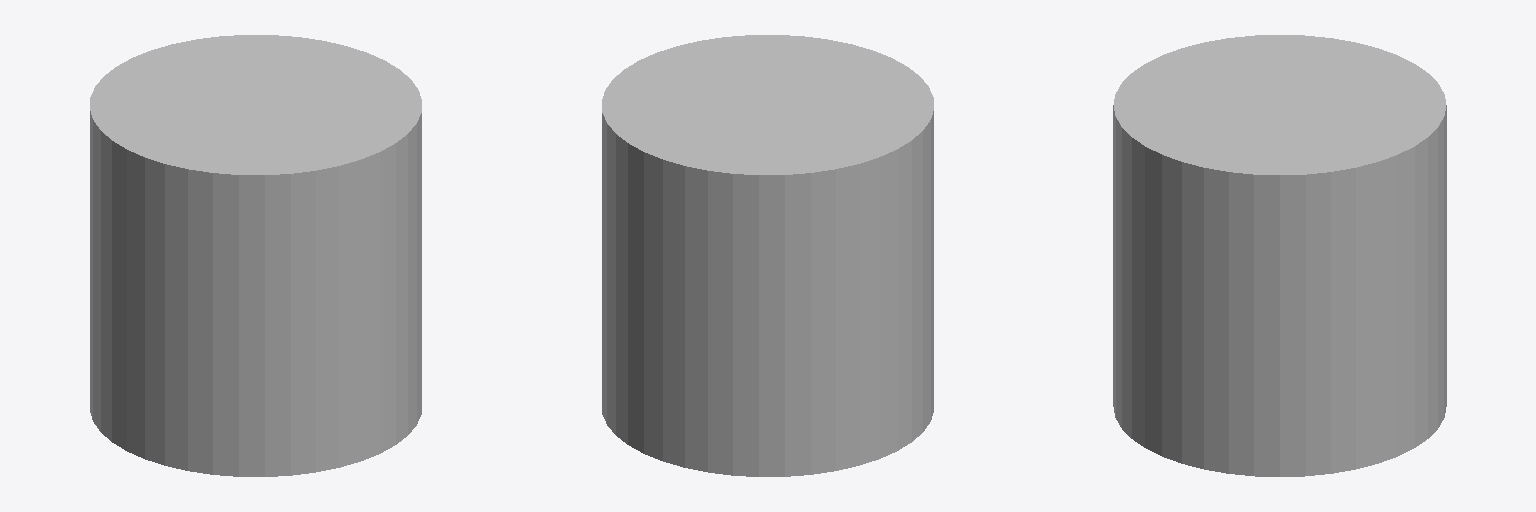
Rendered from Pillar.obj.
3 views of the same model, side by side, from view 1: azimuth 30°, elevation 25°; view 2: azimuth 150°, elevation 25°; view 3: azimuth 270°, elevation 25° (orthographic).
Visible parts, largest first — view 1: Cylinder; view 2: Cylinder; view 3: Cylinder.
Boxes of the visible parts, x1,y1,x2,y2 form: Cylinder: [90, 35, 421, 476]; Cylinder: [602, 35, 933, 476]; Cylinder: [1113, 35, 1446, 476].
Bounding box in the file's own units: 1 × 1 × 1.